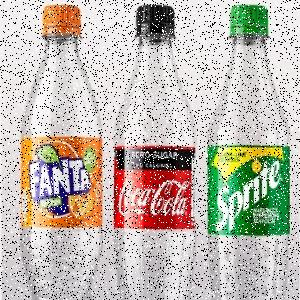Plastic-bottle: (113, 3, 200, 300), (19, 4, 105, 300), (207, 5, 293, 300)
